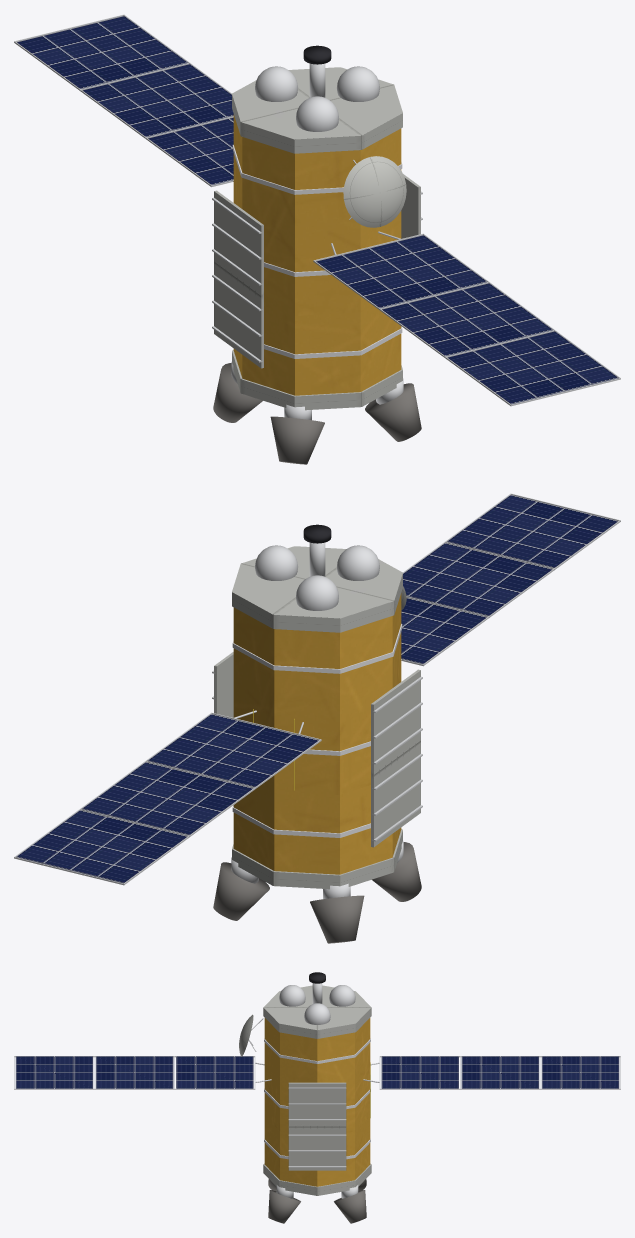
File: tractor.glb
The picture shows the model from 3 angles, top to bottom: view 1: azimuth 30°, elevation 25°; view 2: azimuth 150°, elevation 25°; view 3: azimuth 270°, elevation 25°; orthographic projection. The views are drawn at different scales.
Visible parts, largest first — view 1: Cylinder, Cylinder.004, Cube, Cube.004, Cube.020, Cube.002, Cube.018, Cube.009, Sphere.003, Cube.016, Cylinder.005, Cone.002 (+8 smaller); view 2: Cylinder, Cylinder.004, Cube.004, Cube.016, Cube.020, Cube.018, Cube.002, Cube.009, Cube, Cylinder.005, Cone.001, Cone (+7 smaller); view 3: Cylinder, Cube.025, Cylinder.004, Cube.002, Cube.004, Cube.018, Cube.020, Cube.016, Cube, Cylinder.005, Cone, Cone.003 (+6 smaller).
Boxes of the visible parts, x1=… form: Cylinder: x1=233, y1=114, x2=401, y2=395; Cylinder.004: x1=232, y1=67, x2=402, y2=153; Cube: x1=316, y1=235, x2=487, y2=308; Cube.004: x1=447, y1=331, x2=618, y2=404; Cube.020: x1=17, y1=16, x2=187, y2=88; Cube.002: x1=382, y1=283, x2=552, y2=356; Cube.018: x1=82, y1=64, x2=233, y2=136; Cube.009: x1=214, y1=190, x2=263, y2=368; Sphere.003: x1=343, y1=156, x2=406, y2=227; Cube.016: x1=148, y1=117, x2=233, y2=184; Cylinder.005: x1=232, y1=350, x2=402, y2=410; Cone.002: x1=270, y1=416, x2=324, y2=464; Cylinder: x1=233, y1=593, x2=401, y2=874; Cylinder.004: x1=232, y1=546, x2=402, y2=632; Cube.004: x1=447, y1=495, x2=617, y2=567; Cube.016: x1=147, y1=714, x2=318, y2=787; Cube.020: x1=16, y1=810, x2=187, y2=883; Cube.018: x1=82, y1=762, x2=252, y2=835; Cube.002: x1=403, y1=543, x2=552, y2=615; Cube.009: x1=371, y1=669, x2=420, y2=847; Cube: x1=401, y1=598, x2=486, y2=663; Cylinder.005: x1=232, y1=829, x2=402, y2=889; Cone.001: x1=310, y1=895, x2=364, y2=943; Cone: x1=213, y1=862, x2=269, y2=920; Cylinder: x1=264, y1=1018, x2=370, y2=1186; Cube.025: x1=288, y1=1082, x2=346, y2=1170; Cylinder.004: x1=263, y1=985, x2=371, y2=1038; Cube.002: x1=95, y1=1056, x2=173, y2=1088; Cube.004: x1=15, y1=1056, x2=93, y2=1088; Cube.018: x1=461, y1=1056, x2=539, y2=1088; Cube.020: x1=541, y1=1056, x2=619, y2=1088; Cube.016: x1=381, y1=1056, x2=458, y2=1088; Cube: x1=176, y1=1056, x2=253, y2=1088; Cylinder.005: x1=263, y1=1163, x2=371, y2=1195; Cone: x1=334, y1=1190, x2=366, y2=1223; Cone.003: x1=268, y1=1190, x2=300, y2=1223.
Bounding box in the file's own units: 4.8 × 10.6 × 25.23.
Materials: 9 (3 with a texture image).
